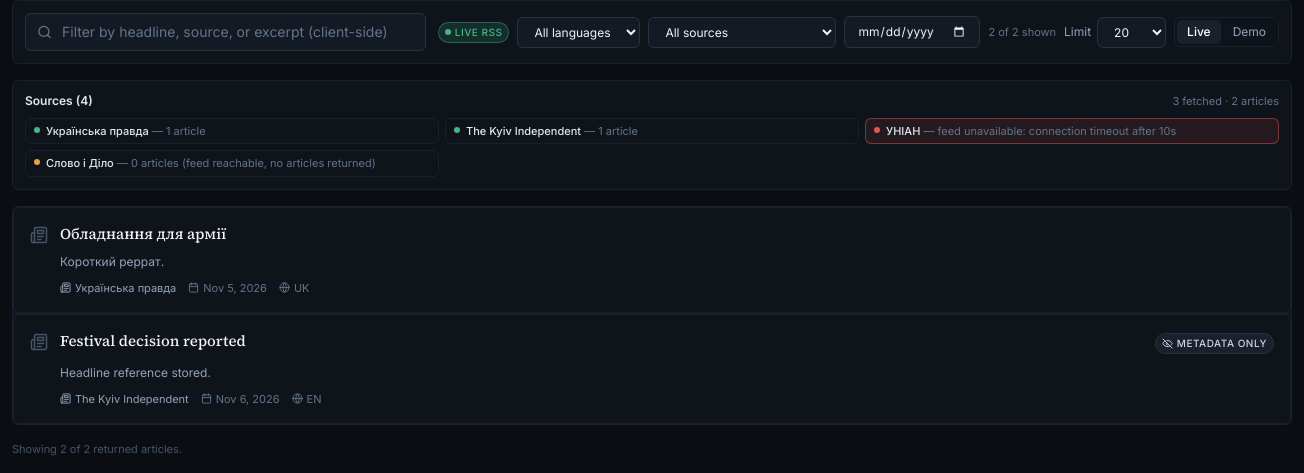
it: NewsPage — Slice B source behavior › 7. Live/Demo behavior remains intact (demo switch, DEMO badges, no source strip)
Expected: the heading "Обладнання для армії" is shown, [60,224,226,244]
Expected: the text "Live RSS" is shown, [438,22,510,42]
What coordinates should you click on to do the following:
click the button "Demo"
I would click on:
 (1249, 32)
Its box is [1223,20,1276,44].
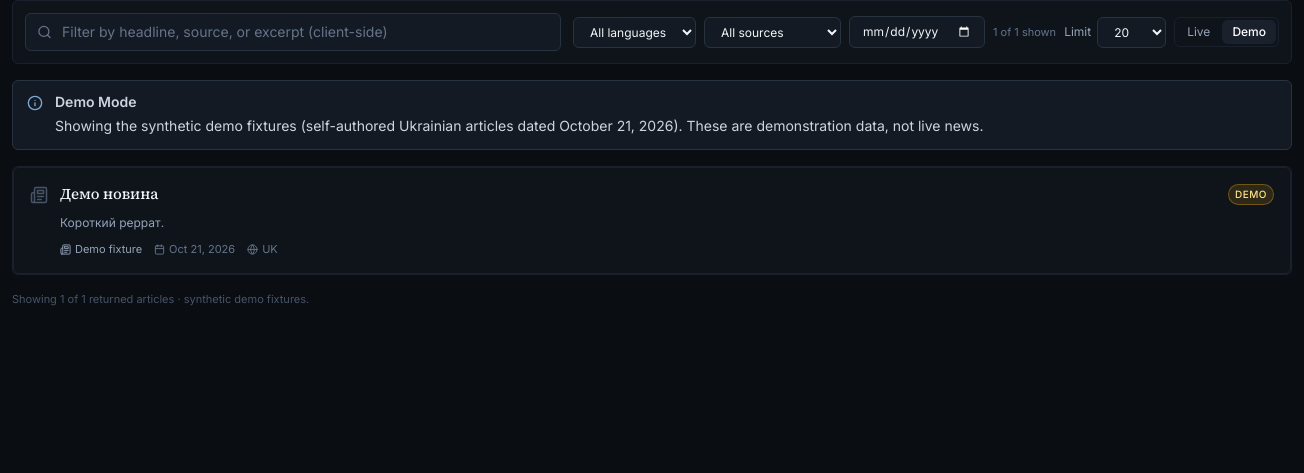
Expected: the text "Demo Mode" is shown, [55,93,136,110]
Expected: the text "DEMO" is shown, [1228,184,1274,205]
Expected: the element with test id "source-status-strip" is gone
